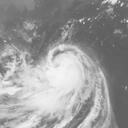cyclone: (29, 43, 103, 109)
